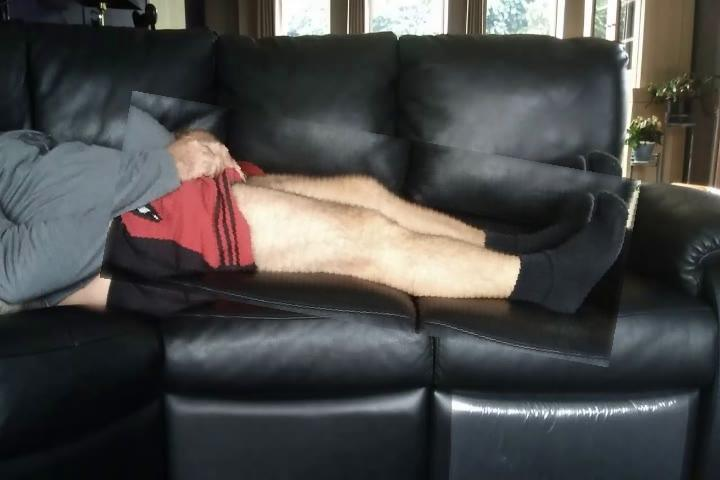lower_body: (107, 114, 636, 346)
